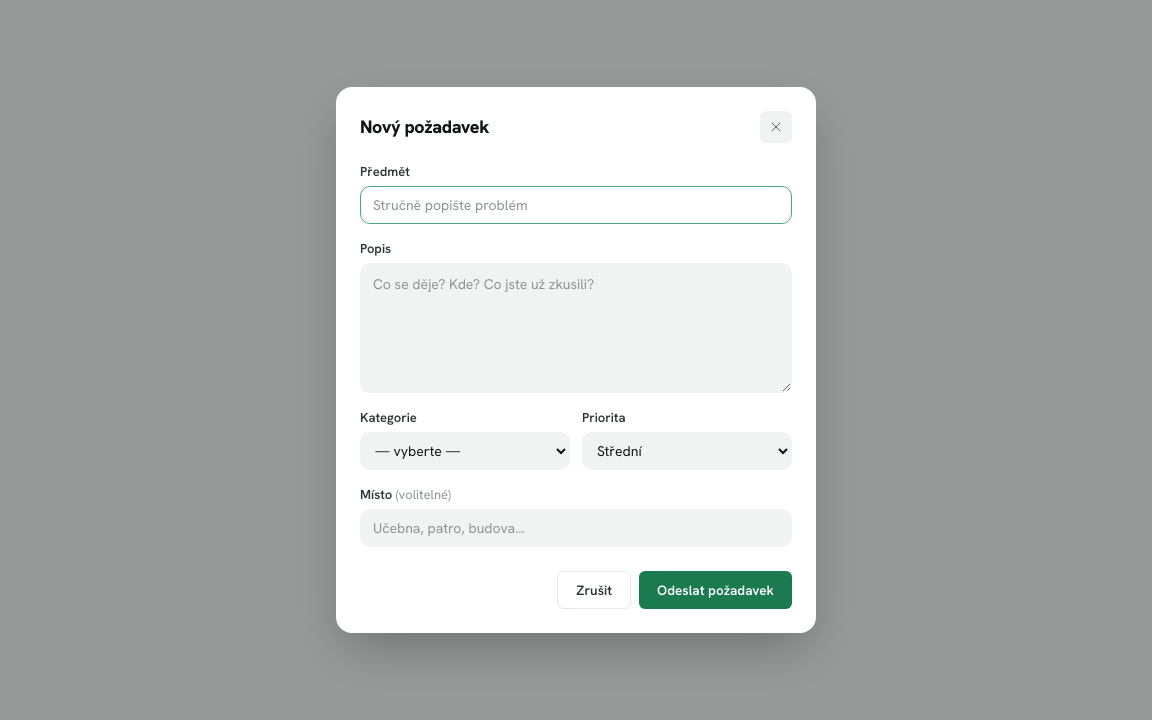
it: NewTicketModal › does not submit when fields are empty and shows validation hints
Click the button "Odeslat požadavek" at x=716, y=590, box [639,571,792,609]
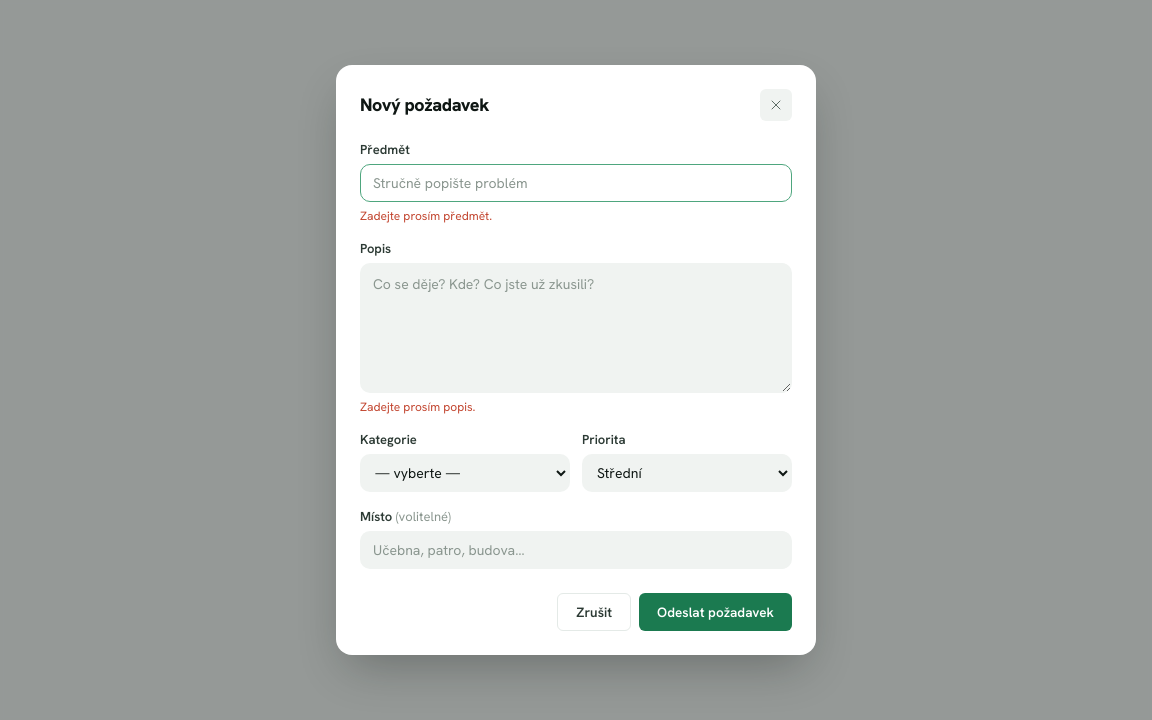
Check: the text "Zadejte prosím předmět." is shown, box [360,208,492,224]
Check: the text "Zadejte prosím popis." is shown, box [360,399,476,415]
